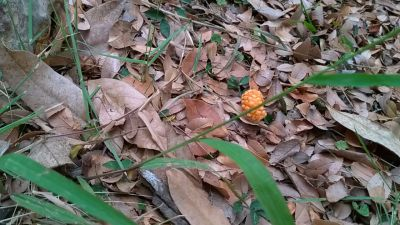eggs: (238, 85, 269, 125)
